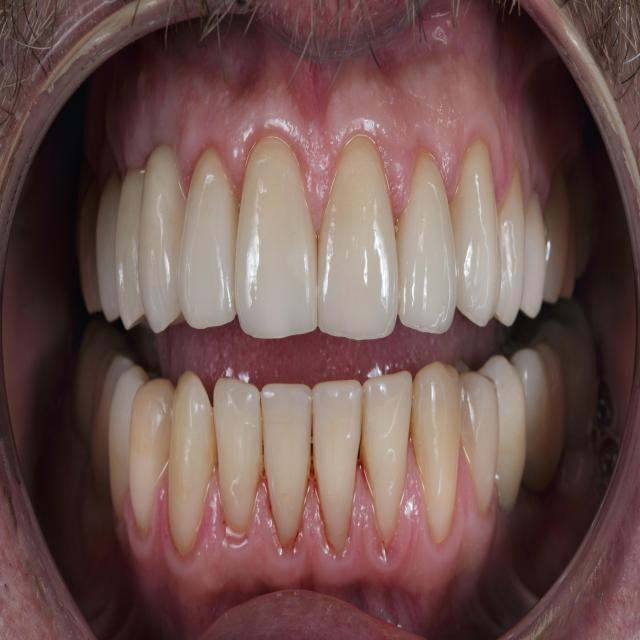Tooth: (234, 137, 318, 340), (318, 135, 400, 340), (395, 154, 458, 335), (179, 150, 240, 330), (449, 138, 502, 327), (137, 146, 187, 333), (360, 370, 413, 542), (411, 360, 460, 543), (168, 370, 217, 551), (312, 379, 363, 552), (511, 340, 569, 492), (261, 383, 312, 541), (213, 377, 263, 529), (480, 355, 526, 513), (129, 377, 175, 529), (108, 365, 150, 523), (458, 370, 500, 515), (114, 164, 146, 330), (495, 161, 525, 326), (95, 172, 122, 323)
